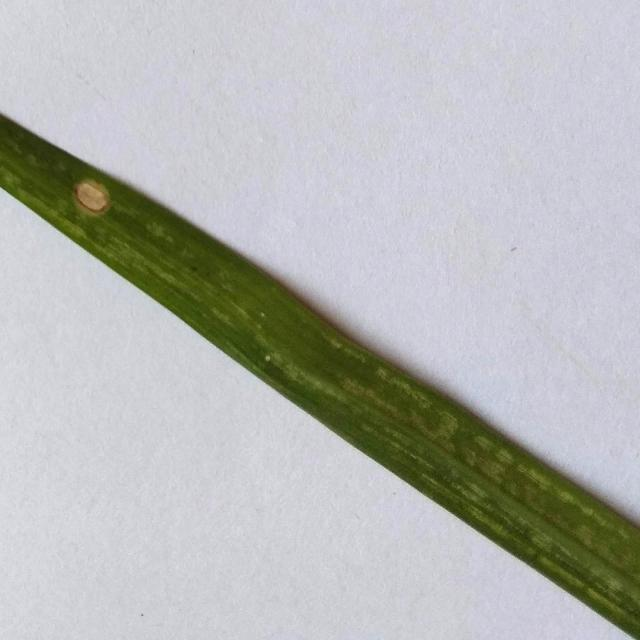Leaf_Blast: (23, 148, 203, 284)
